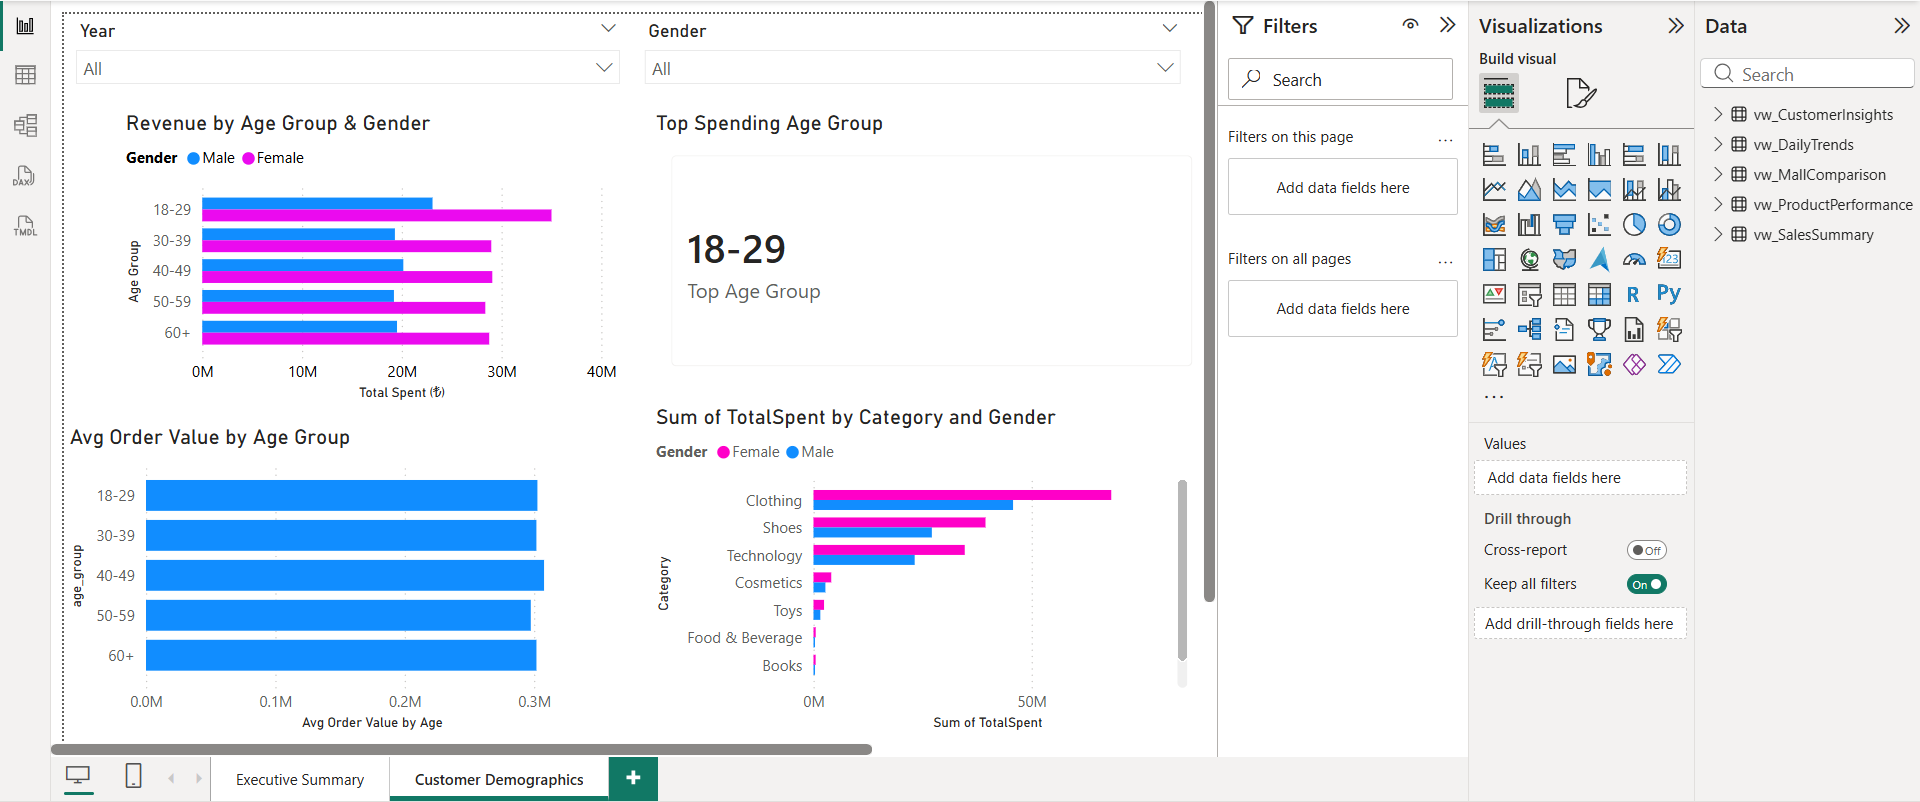

What the dashboard file says about the page in this screenshot:
{"tool":"powerbi","page":{"name":"Customer Demographics","canvas":[1280,720],"ordinal":1},"visuals":[{"type":"clusteredBarChart","title":"Revenue by Age Group & Gender","fields":{"Category":["vw_CustomerInsights.age_group"],"Y":["Sum(vw_CustomerInsights.TotalSpent)"],"Series":["vw_CustomerInsights.Gender"]},"box":[0,70,486,237],"z":0},{"type":"slicer","fields":{"Values":["vw_SalesSummary.Year"]},"box":[0,0,432,67],"z":1000},{"type":"slicer","fields":{"Values":["vw_CustomerInsights.Gender"]},"box":[430,0,650,57],"z":2000},{"type":"clusteredBarChart","fields":{"Category":["vw_CustomerInsights.Category"],"Y":["Sum(vw_CustomerInsights.TotalSpent)"],"Series":["vw_CustomerInsights.Gender"]},"box":[486,320,564,266],"z":3000},{"type":"clusteredBarChart","title":"Avg Order Value by Age Group","fields":{"Category":["vw_CustomerInsights.age_group"],"Y":["vw_CustomerInsights.Avg Order Value by Age"]},"box":[0,320,486,250],"z":4000},{"type":"cardVisual","title":"Top Spending Age Group","fields":{"Data":["vw_CustomerInsights.Top Age Group"]},"box":[486,84,786,223],"z":5000}]}

Visuals, with their boxes on the page's 1280x720 design canvas (x1, y1, x2, y2). These are canvas units, not pixel positions in the 1920x802 screenshot, which may show the page scaled, cropped or inside an application window:
"Revenue by Age Group & Gender" clusteredBarChart: select_region(0, 70, 486, 307)
slicer - vw_SalesSummary.Year: select_region(0, 0, 432, 67)
slicer - vw_CustomerInsights.Gender: select_region(430, 0, 1080, 57)
clusteredBarChart - vw_CustomerInsights.Category x Sum(vw_CustomerInsights.TotalSpent): select_region(486, 320, 1050, 586)
"Avg Order Value by Age Group" clusteredBarChart: select_region(0, 320, 486, 570)
"Top Spending Age Group" cardVisual: select_region(486, 84, 1272, 307)
